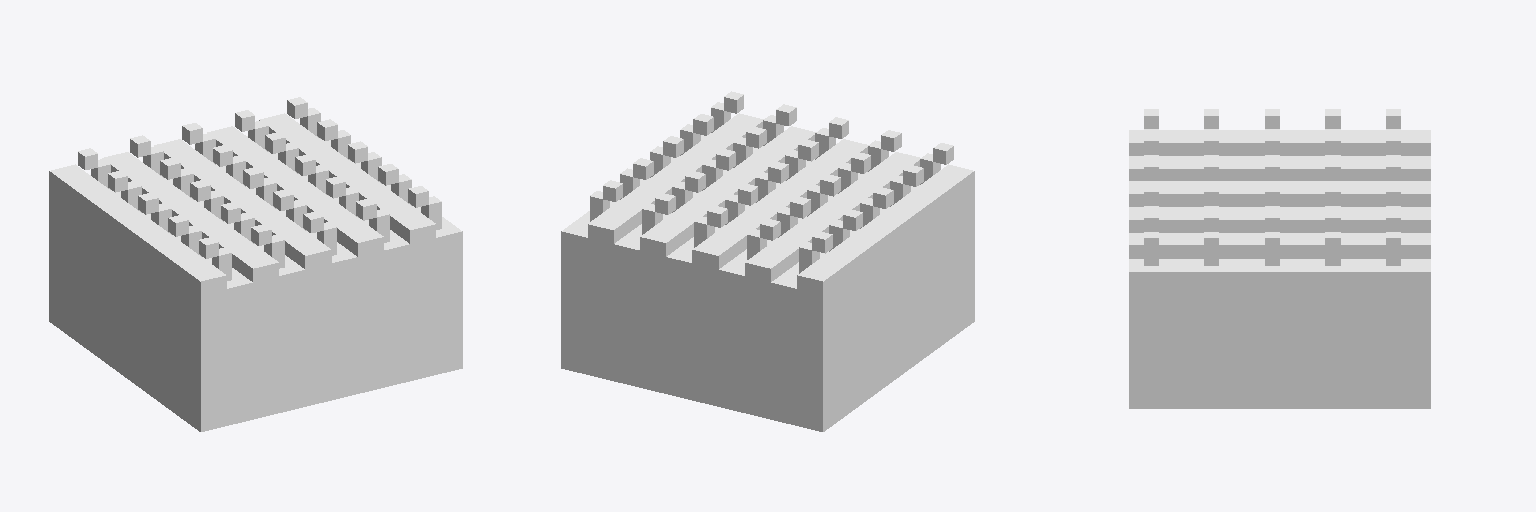
Rendered from Wheat_Level_1.obj.
The picture shows the model from 3 angles: view 1: azimuth 30°, elevation 25°; view 2: azimuth 150°, elevation 25°; view 3: azimuth 270°, elevation 25°; orthographic projection.
Visible parts, largest first — view 1: Wheat_Level_1; view 2: Wheat_Level_1; view 3: Wheat_Level_1.
Part boxes in pixels (x1,y1,x2,y2): Wheat_Level_1: (49,97,462,431); Wheat_Level_1: (561,91,974,431); Wheat_Level_1: (1129,109,1430,408).
Bounding box in the file's own units: 20 × 13 × 20.